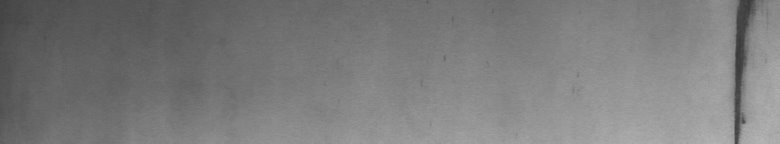hd: (727, 4, 768, 136)
